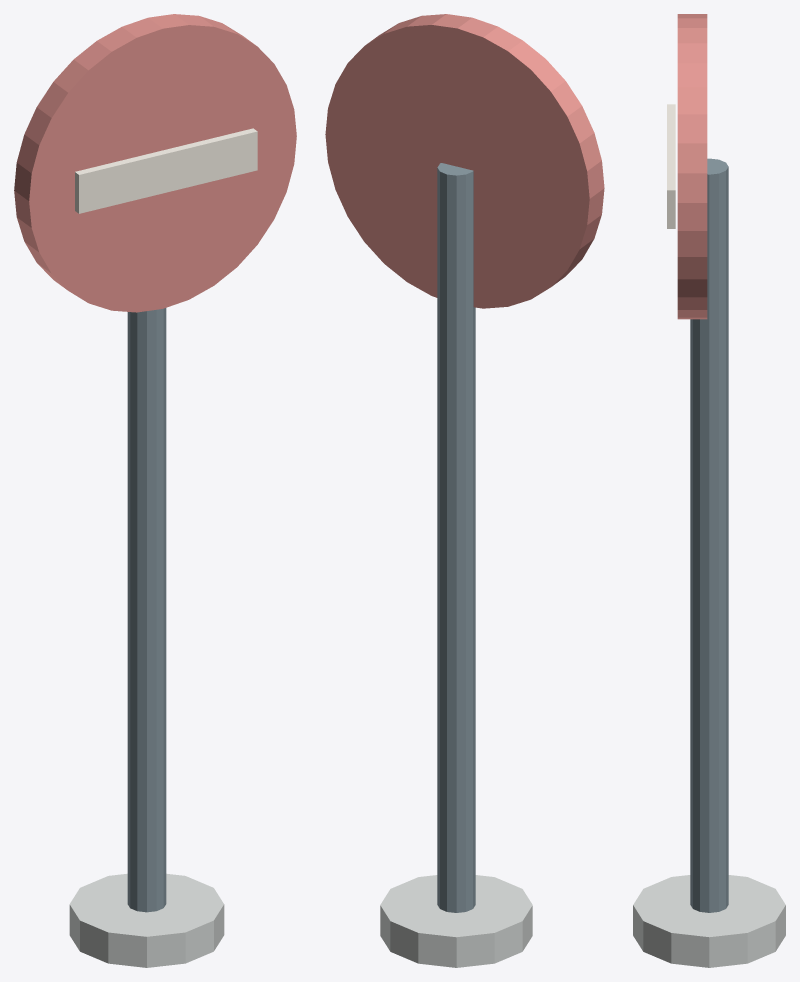
Rendered from no_entry.glb.
3 renders of one model, left to right at view 1: azimuth 30°, elevation 25°; view 2: azimuth 150°, elevation 25°; view 3: azimuth 270°, elevation 25°, orthographic.
Visible parts, largest first — view 1: no_entry_002, no_entry_000, no_entry_001, no_entry_003; view 2: no_entry_002, no_entry_000, no_entry_001; view 3: no_entry_000, no_entry_001, no_entry_002, no_entry_003.
Part boxes in pixels (<box>): no_entry_002: <box>14,14,296,312</box>; no_entry_000: <box>127,308,166,912</box>; no_entry_001: <box>69,873,224,967</box>; no_entry_003: <box>75,128,257,213</box>; no_entry_002: <box>325,14,604,308</box>; no_entry_000: <box>437,163,475,912</box>; no_entry_001: <box>380,875,532,967</box>; no_entry_000: <box>690,158,728,912</box>; no_entry_001: <box>633,875,785,967</box>; no_entry_002: <box>677,14,707,319</box>; no_entry_003: <box>667,104,675,228</box>.
Bounding box in the file's own units: 0.72 × 2.36 × 0.36.
